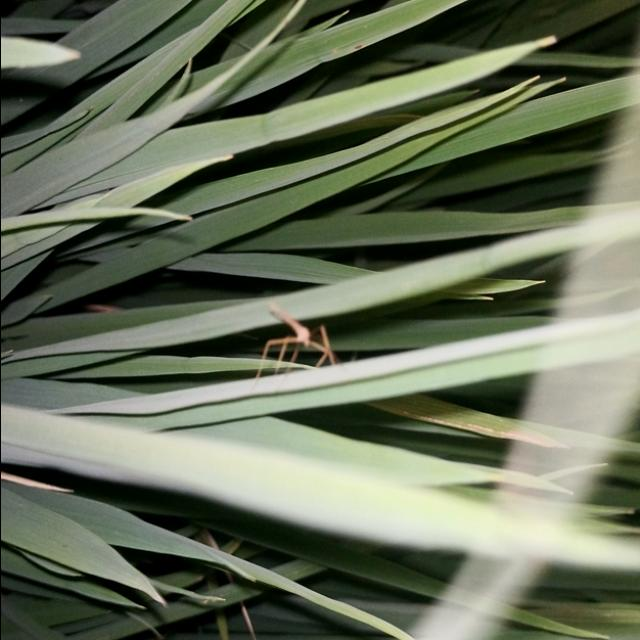green leaf hopper: (252, 304, 352, 393)
